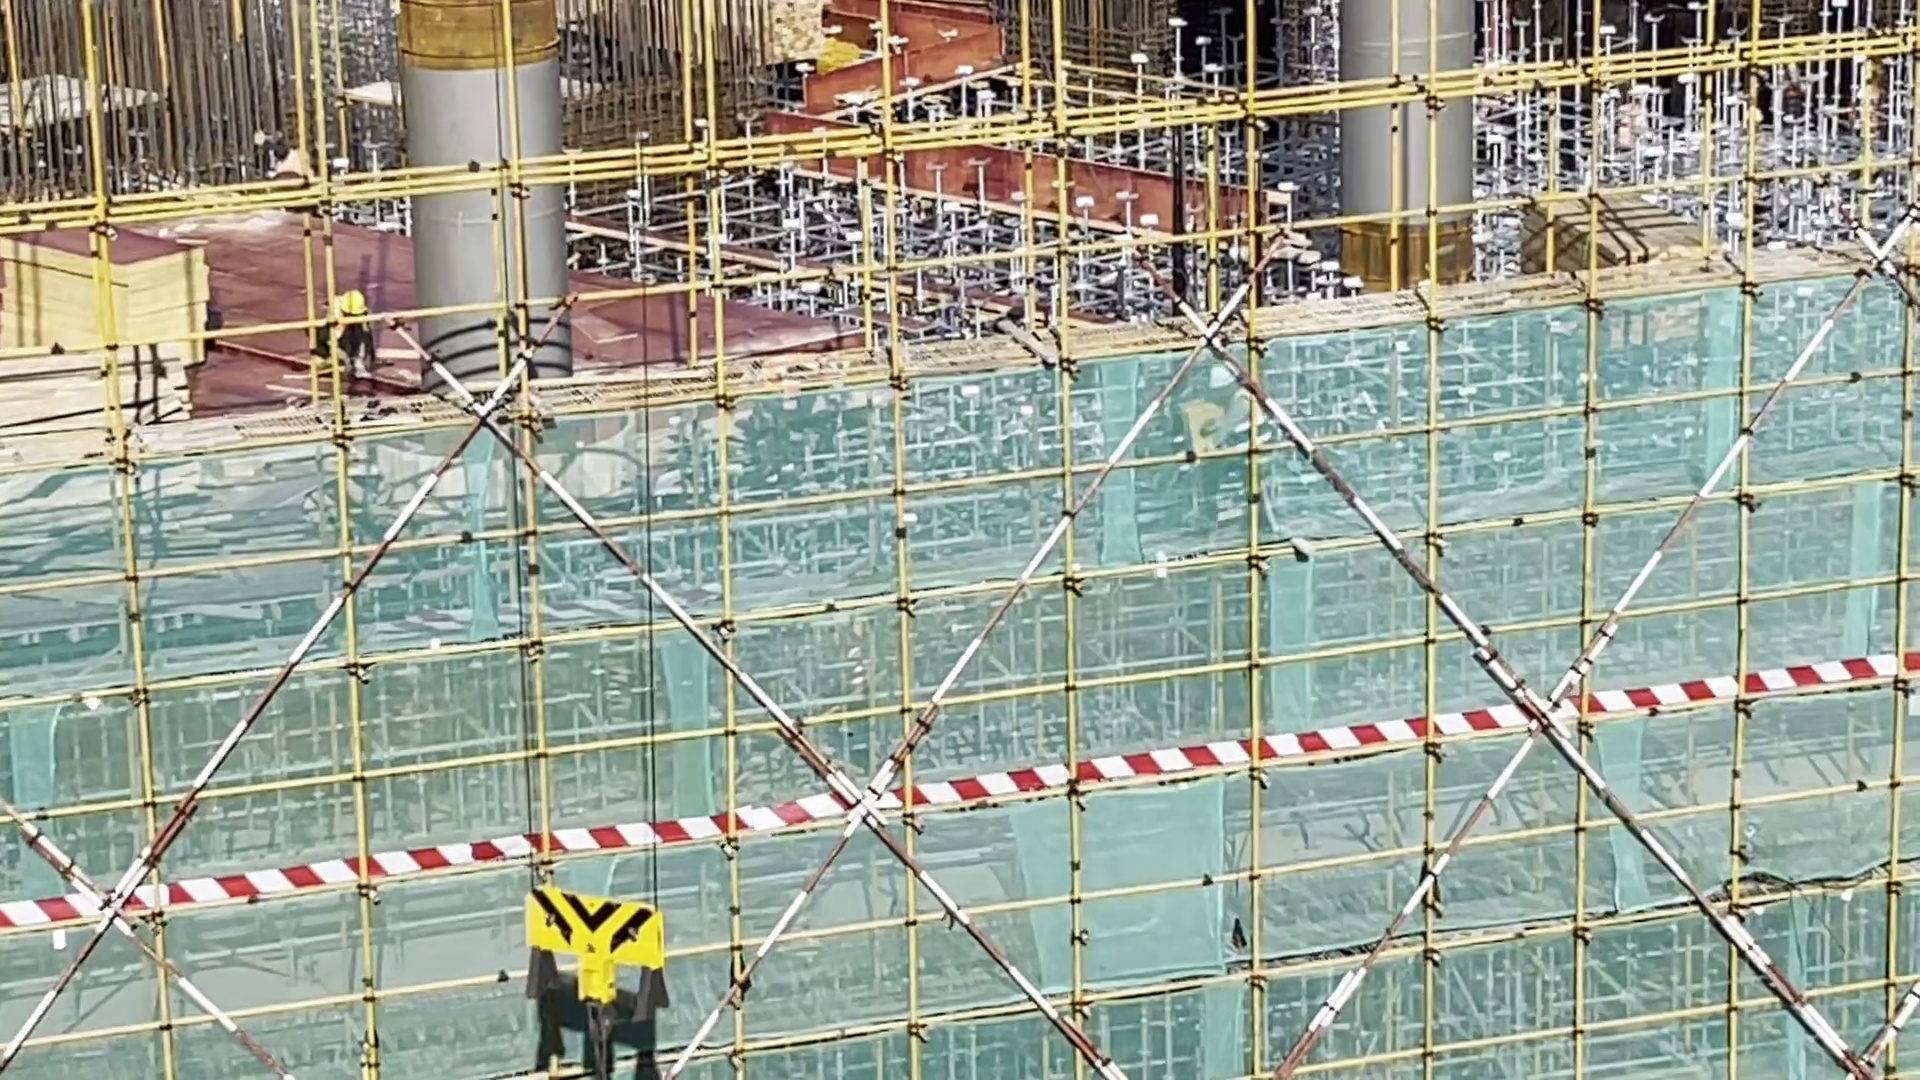board: (6, 223, 212, 377)
hook: (521, 884, 666, 1023)
person: (316, 291, 378, 384)
wood: (1529, 188, 1713, 281)
